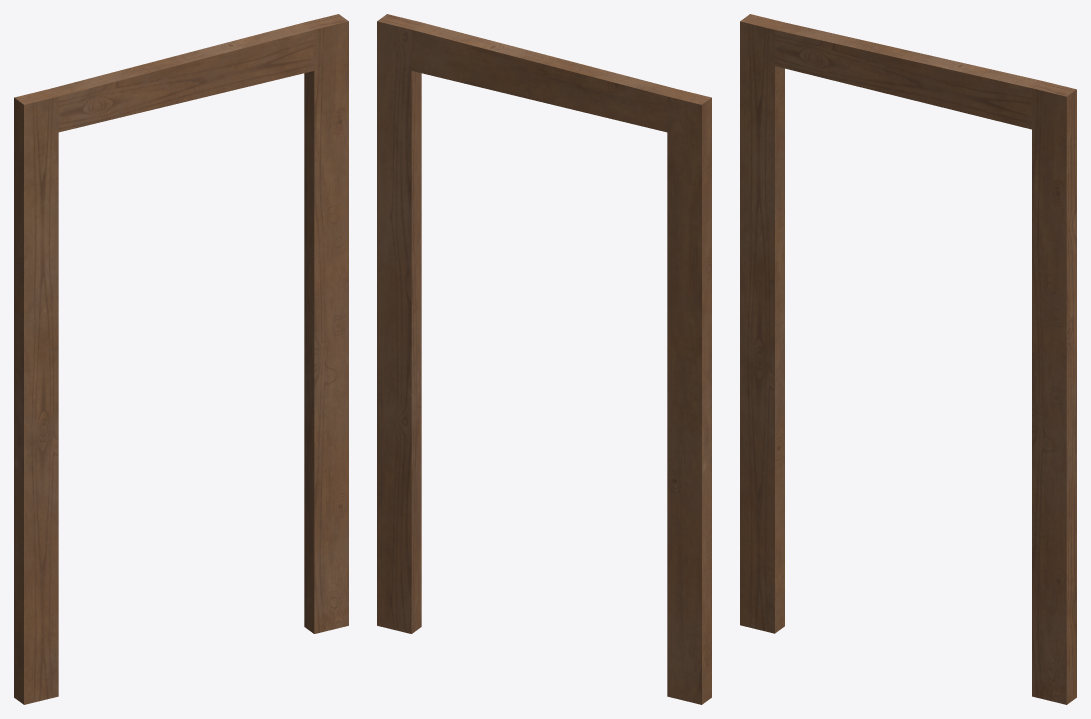
Rendered from contour_porte.fbx.
3 views of the same model, side by side, from view 1: azimuth 30°, elevation 25°; view 2: azimuth 150°, elevation 25°; view 3: azimuth 330°, elevation 25° (orthographic).
Parts seen in each view (by area): view 1: contour porte; view 2: contour porte; view 3: contour porte.
Part boxes in pixels (<box>): contour porte: <box>14,14,348,704</box>; contour porte: <box>377,14,711,704</box>; contour porte: <box>740,14,1076,704</box>.
Bounding box in the file's own units: 111 × 197 × 5.95.
